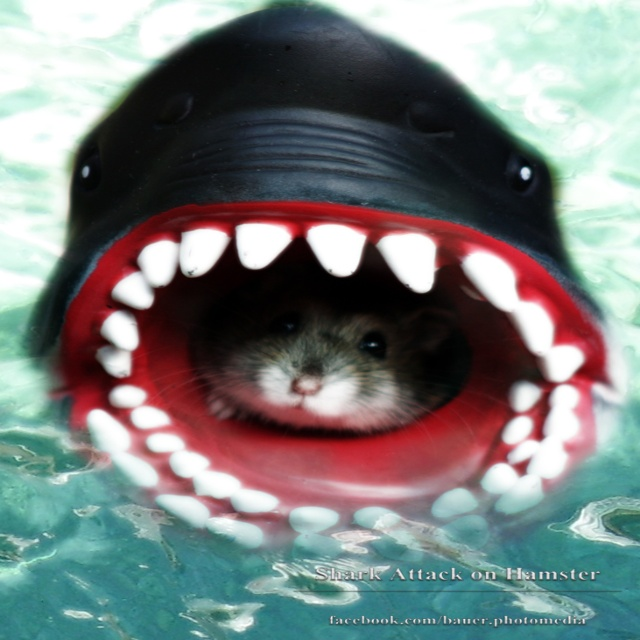Shark: (0, 0, 627, 558)
